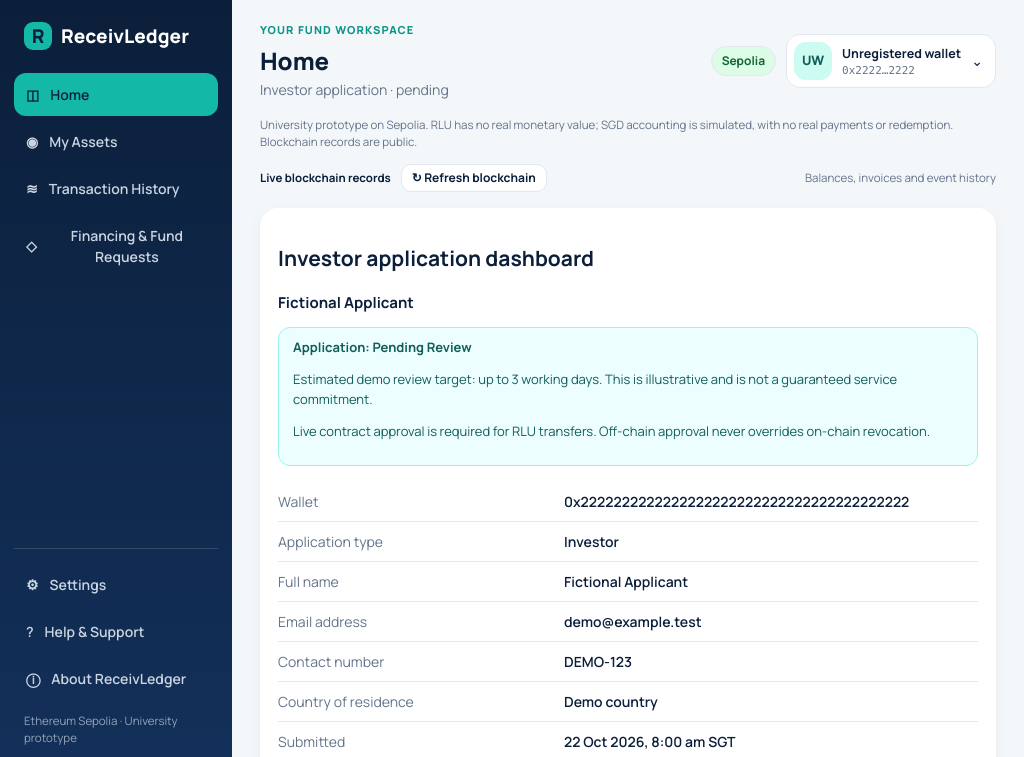
new-wallet onboarding and secure registration forms › uses the investor application interface without granting the chain investor role
The image size is (1024, 757).
Expected: the heading "Investor application dashboard" is shown, [278,244,594,272]
Expected: the text "up to 3 working days" is shown, [293,370,897,408]
Click the button "◉ My Assets" at (116, 141), box [14,120,218,162]
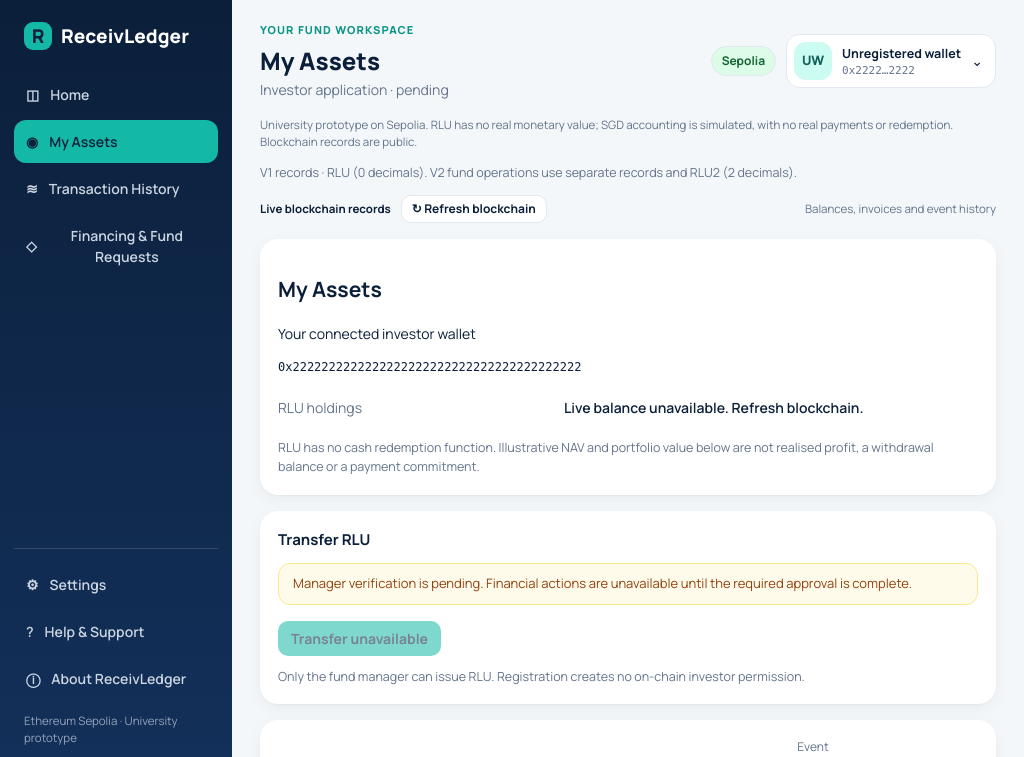
Expected: the text "Manager verification is pending" is shown, [293,574,912,592]
Expected: the button "Transfer unavailable" is disabled, [278,621,441,656]
